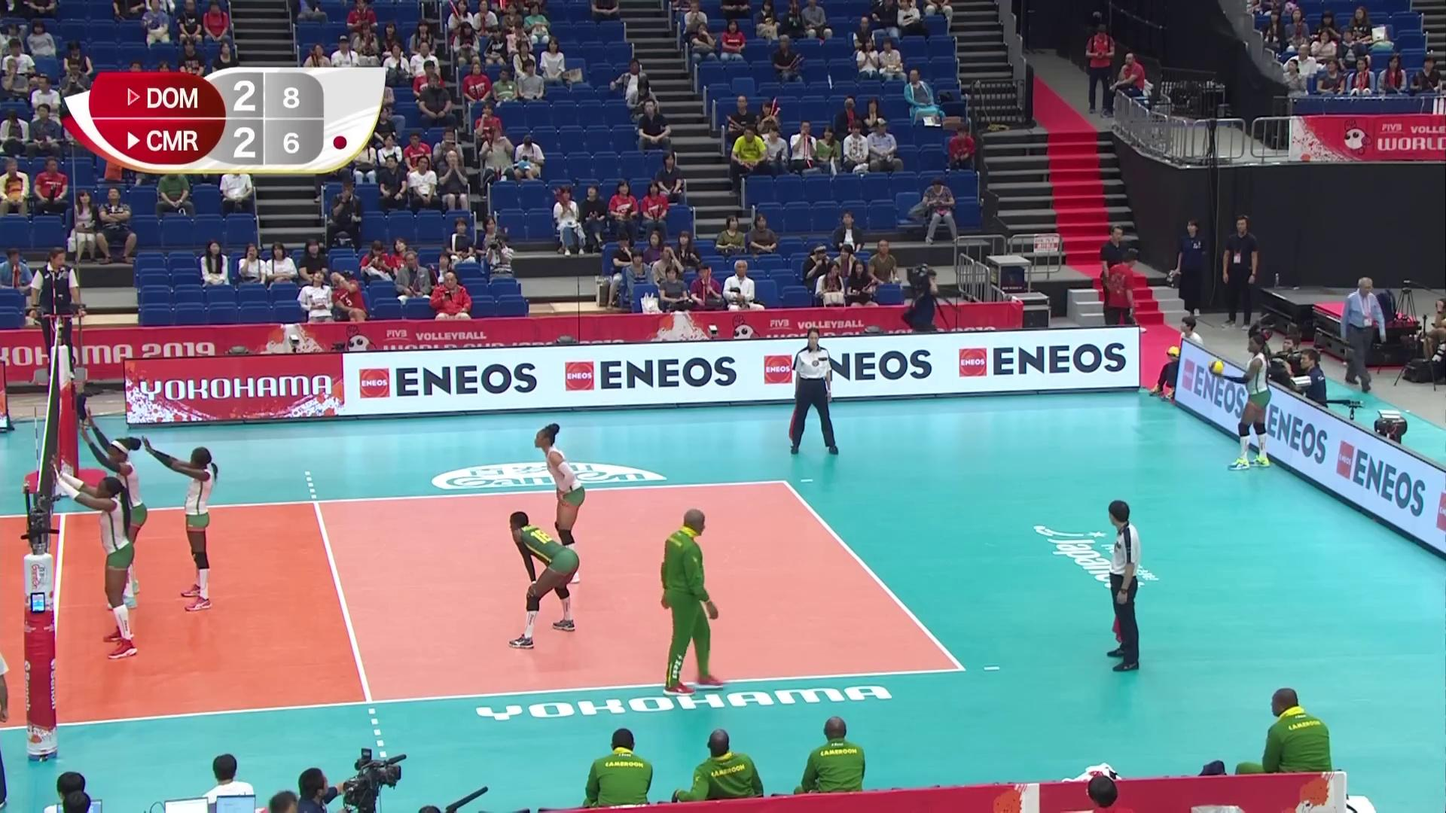player: (60, 461, 140, 660), (83, 408, 148, 608), (165, 443, 223, 620), (505, 512, 581, 645), (524, 423, 592, 566), (1232, 333, 1273, 472)
refree: (1100, 494, 1143, 673), (788, 322, 836, 457), (33, 247, 80, 376)
